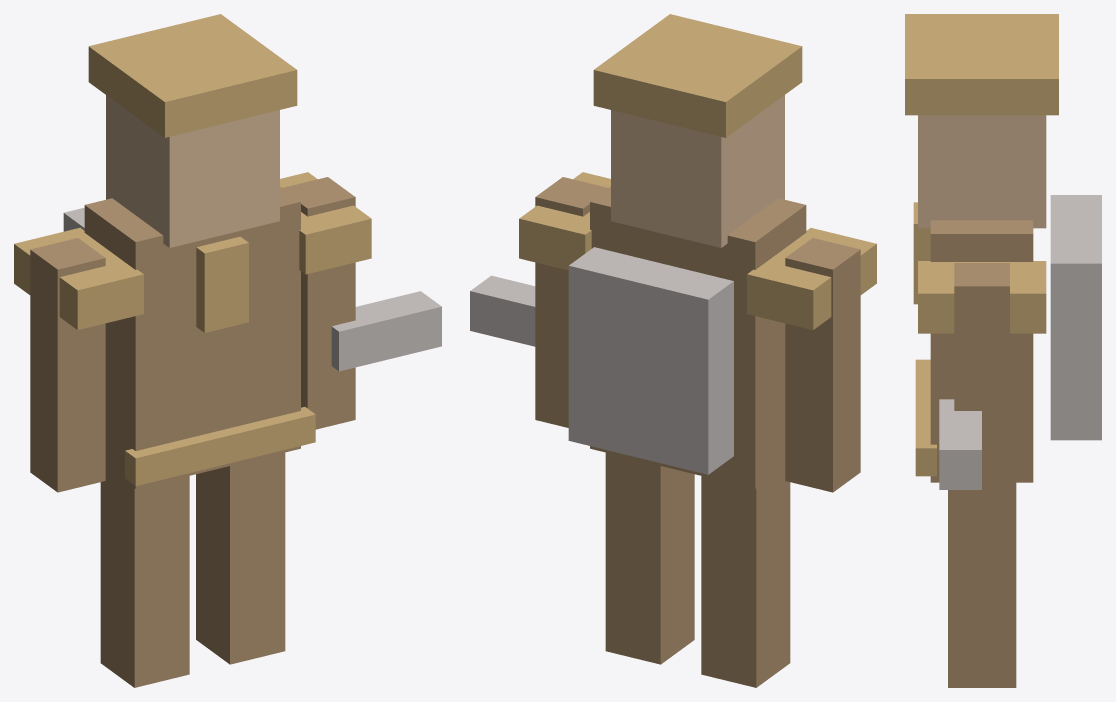
Rendered from 19_makoa_chromabell_marshal_near_lexicon.glb.
3 renders of one model, left to right at view 1: azimuth 30°, elevation 25°; view 2: azimuth 150°, elevation 25°; view 3: azimuth 270°, elevation 25°, orthographic.
Visible parts, largest first — view 1: Makoa Chromabell, Marshal near Lexicon; view 2: Makoa Chromabell, Marshal near Lexicon; view 3: Makoa Chromabell, Marshal near Lexicon.
Boxes of the visible parts, x1=… form: Makoa Chromabell, Marshal near Lexicon: x1=14, y1=14, x2=441, y2=687; Makoa Chromabell, Marshal near Lexicon: x1=470, y1=14, x2=876, y2=687; Makoa Chromabell, Marshal near Lexicon: x1=905, y1=14, x2=1101, y2=687.
Size of the model in its own units: 1.09 by 1.66 by 0.4893.
